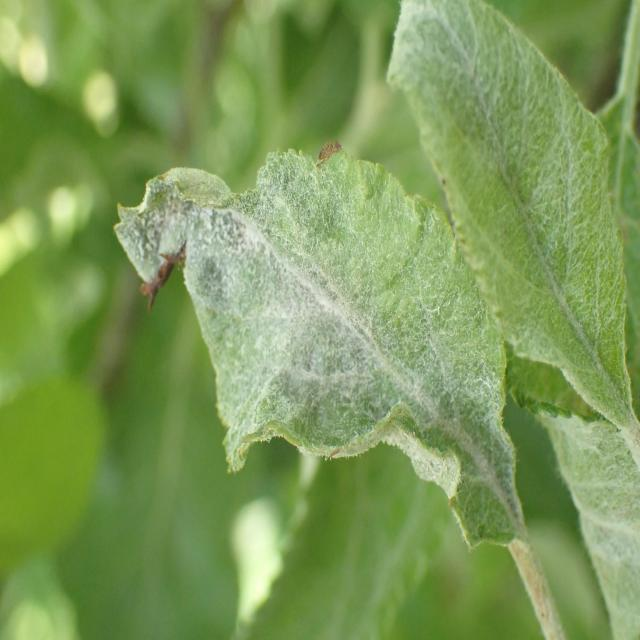Powdery_mildew: (110, 119, 551, 640), (390, 0, 639, 491), (544, 0, 640, 636)
